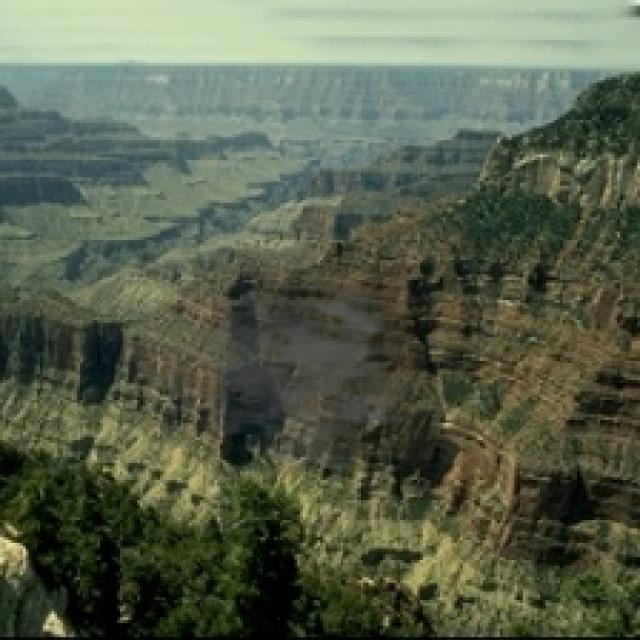Smoke: (168, 268, 438, 468)
